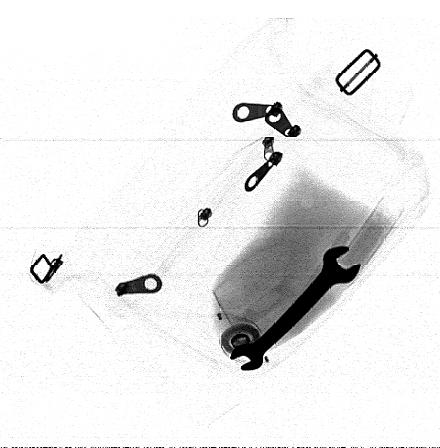Wrench: (230, 245, 363, 372)
